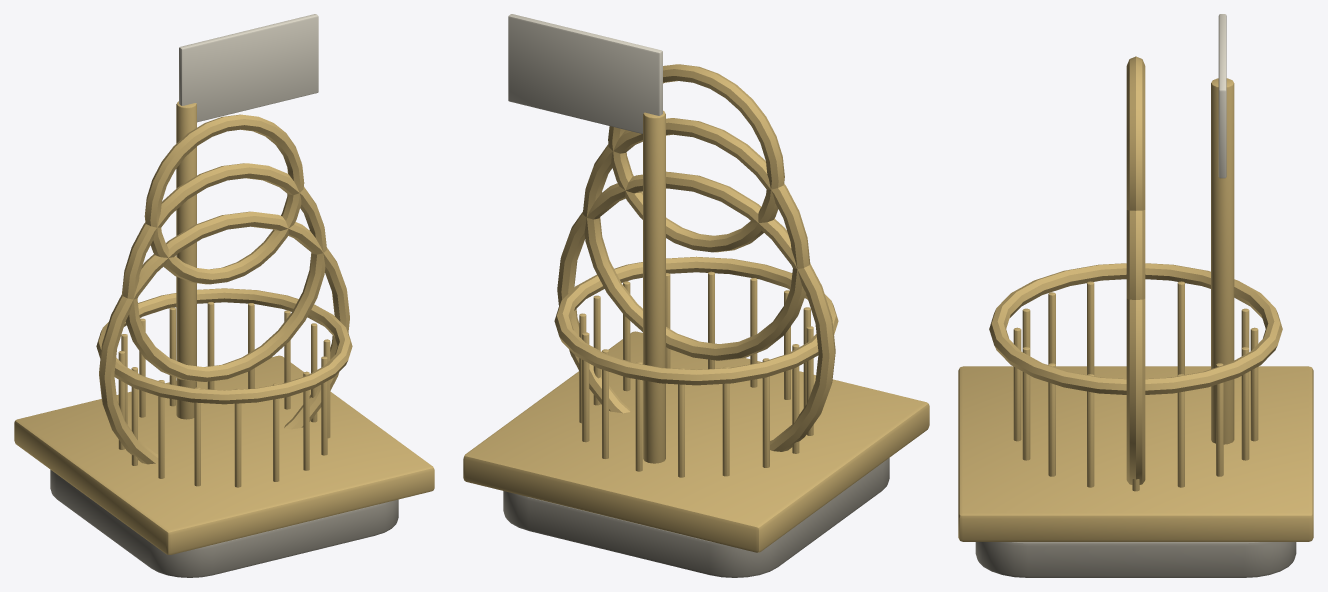
File: practice_basket_country_club.glb
3 views of the same model, side by side, from view 1: azimuth 30°, elevation 25°; view 2: azimuth 150°, elevation 25°; view 3: azimuth 270°, elevation 25° (orthographic). The views are drawn at different scales.
Parts seen in each view (by area): view 1: PracticeBasket_CollectionTray, PracticeBasket_Flag, PracticeBasket_Base, PracticeBasket_TargetRing_2, PracticeBasket_TargetRing_1, PracticeBasket_TargetRing_3, PracticeBasket_Collector_TopRing, PracticeBasket_Mast, PracticeBasket_Collector_Wire_12, PracticeBasket_Collector_Wire_11, PracticeBasket_Collector_Wire_13, PracticeBasket_Collector_Wire_14 (+3 smaller); view 2: PracticeBasket_CollectionTray, PracticeBasket_Flag, PracticeBasket_Base, PracticeBasket_TargetRing_2, PracticeBasket_TargetRing_1, PracticeBasket_Collector_TopRing, PracticeBasket_Mast, PracticeBasket_TargetRing_3, PracticeBasket_Collector_Wire_7, PracticeBasket_Collector_Wire_5, PracticeBasket_Collector_Wire_8, PracticeBasket_Collector_Wire_3 (+3 smaller); view 3: PracticeBasket_CollectionTray, PracticeBasket_Base, PracticeBasket_Collector_TopRing, PracticeBasket_Mast, PracticeBasket_TargetRing_1, PracticeBasket_TargetRing_3, PracticeBasket_TargetRing_2, PracticeBasket_Flag, PracticeBasket_Collector_Wire_14, PracticeBasket_Collector_Wire_4, PracticeBasket_Collector_Wire_13, PracticeBasket_Collector_Wire_5 (+7 smaller).
Boxes of the visible parts, <box> form: PracticeBasket_CollectionTray: <box>14,355,434,554</box>; PracticeBasket_Flag: <box>179,14,318,122</box>; PracticeBasket_Base: <box>50,469,398,577</box>; PracticeBasket_TargetRing_2: <box>122,163,326,381</box>; PracticeBasket_TargetRing_1: <box>99,211,349,464</box>; PracticeBasket_TargetRing_3: <box>144,114,304,284</box>; PracticeBasket_Collector_TopRing: <box>96,288,352,404</box>; PracticeBasket_Mast: <box>176,101,196,419</box>; PracticeBasket_Collector_Wire_12: <box>234,388,241,487</box>; PracticeBasket_Collector_Wire_11: <box>194,387,200,486</box>; PracticeBasket_Collector_Wire_13: <box>273,383,279,481</box>; PracticeBasket_Collector_Wire_14: <box>303,371,309,470</box>; PracticeBasket_CollectionTray: <box>463,331,929,552</box>; PracticeBasket_Flag: <box>508,14,662,133</box>; PracticeBasket_Base: <box>503,458,889,577</box>; PracticeBasket_TargetRing_2: <box>582,118,810,360</box>; PracticeBasket_TargetRing_1: <box>557,171,835,451</box>; PracticeBasket_Collector_TopRing: <box>554,256,838,385</box>; PracticeBasket_Mast: <box>643,110,665,463</box>; PracticeBasket_TargetRing_3: <box>608,64,784,252</box>; PracticeBasket_Collector_Wire_7: <box>722,366,729,476</box>; PracticeBasket_Collector_Wire_5: <box>635,361,642,471</box>; PracticeBasket_Collector_Wire_8: <box>762,358,769,467</box>; PracticeBasket_Collector_Wire_3: <box>582,332,589,442</box>; PracticeBasket_CollectionTray: <box>958,366,1313,541</box>; PracticeBasket_Base: <box>975,542,1296,577</box>; PracticeBasket_Collector_TopRing: <box>989,263,1282,394</box>; PracticeBasket_Mast: <box>1211,78,1234,444</box>; PracticeBasket_TargetRing_1: <box>1126,299,1145,484</box>; PracticeBasket_TargetRing_3: <box>1126,56,1145,210</box>; PracticeBasket_TargetRing_2: <box>1126,210,1145,299</box>; PracticeBasket_Flag: <box>1218,14,1226,178</box>; PracticeBasket_Collector_Wire_14: <box>1022,347,1030,460</box>; PracticeBasket_Collector_Wire_4: <box>1241,347,1249,460</box>; PracticeBasket_Collector_Wire_13: <box>1013,327,1021,441</box>; PracticeBasket_Collector_Wire_5: <box>1250,327,1258,441</box>.
Size of what is drawn, in the model's own units: 0.5412 by 0.8316 by 0.5412.
